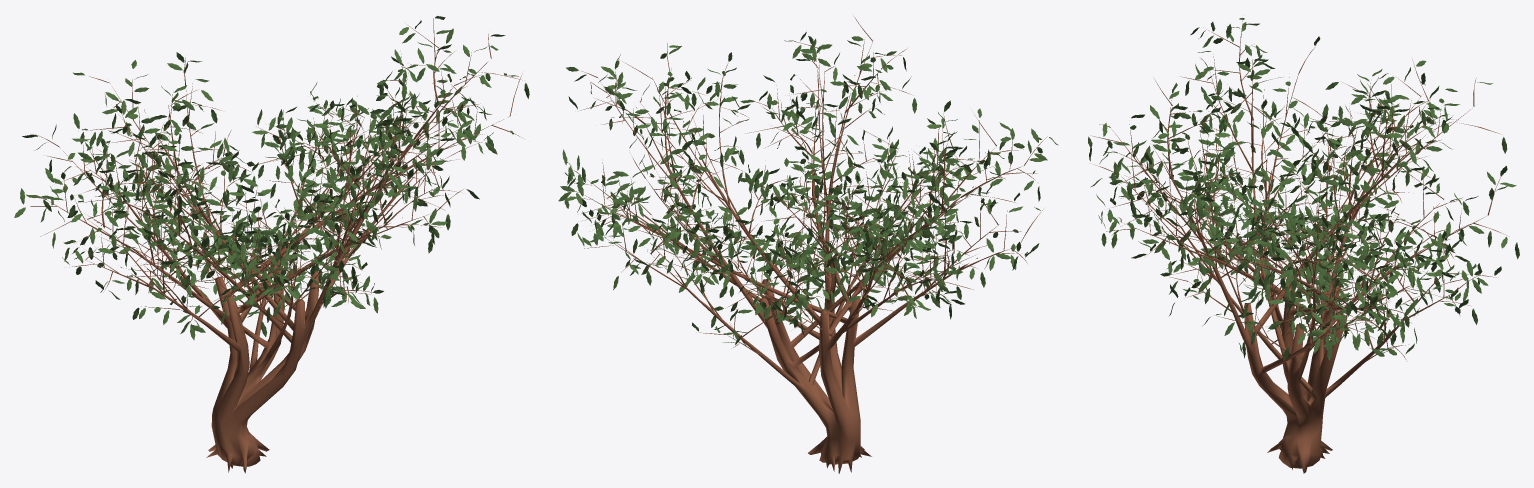
Rendered from Arbousier_2_Niveau0.fbx.
The picture shows the model from 3 angles, left to right: view 1: azimuth 30°, elevation 25°; view 2: azimuth 150°, elevation 25°; view 3: azimuth 270°, elevation 25°; orthographic projection. The views are drawn at different scales.
Visible parts, largest first — view 1: Arbousier_2_Niveau0; view 2: Arbousier_2_Niveau0; view 3: Arbousier_2_Niveau0.
Part boxes in pixels (x1,y1,x2,y2): Arbousier_2_Niveau0: [14, 16, 529, 473]; Arbousier_2_Niveau0: [558, 17, 1058, 473]; Arbousier_2_Niveau0: [1088, 18, 1519, 473].
Bounding box in the file's own units: 326 × 256 × 258.
